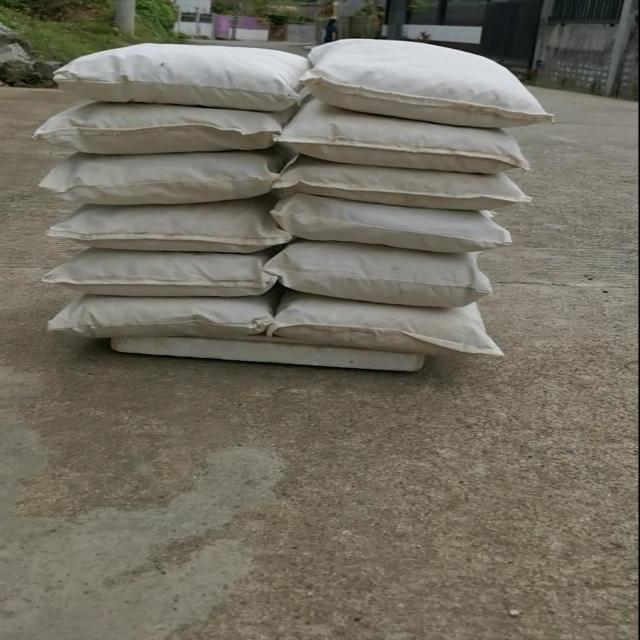Sack: (301, 34, 552, 132), (46, 38, 301, 122), (283, 98, 534, 180), (261, 187, 522, 261), (43, 140, 280, 215), (245, 298, 515, 360), (271, 238, 510, 307), (265, 158, 542, 216), (50, 191, 290, 252), (46, 102, 283, 163), (41, 243, 280, 299), (55, 288, 276, 348)
